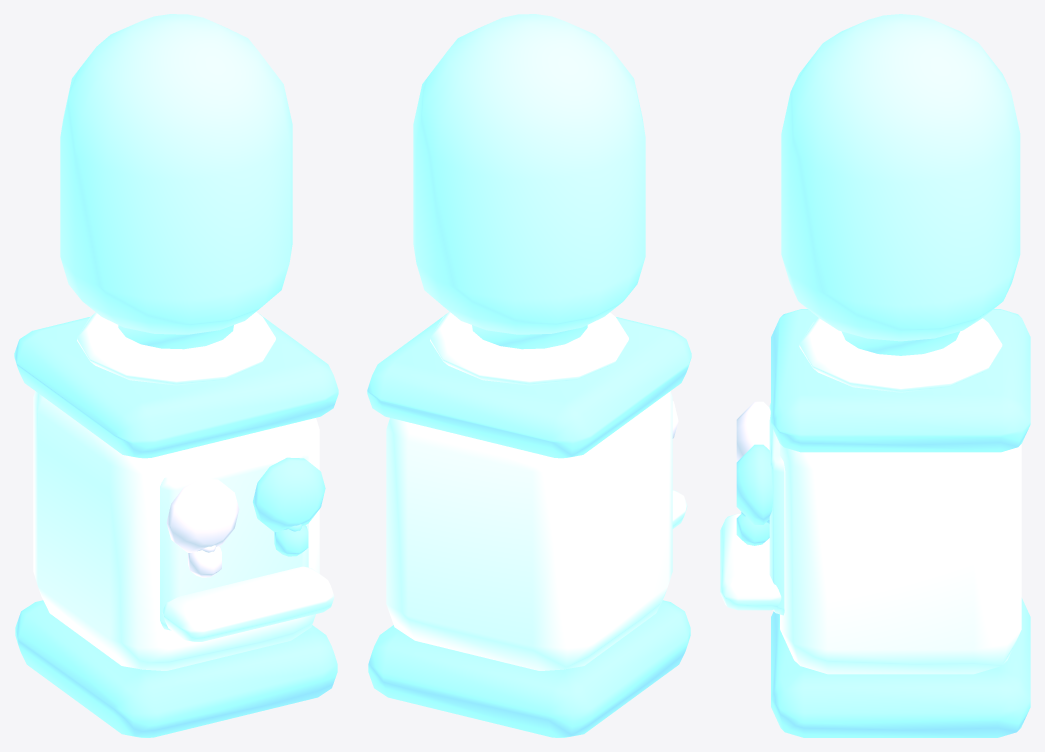
Rendered from props__WaterCooler.glb.
3 views of the same model, side by side, from view 1: azimuth 30°, elevation 25°; view 2: azimuth 150°, elevation 25°; view 3: azimuth 270°, elevation 25° (orthographic).
Parts seen in each view (by area): view 1: WaterCooler; view 2: WaterCooler; view 3: WaterCooler.
Boxes of the visible parts, x1,y1,x2,y2 form: WaterCooler: (14,14,338,737); WaterCooler: (367,14,691,737); WaterCooler: (720,14,1030,737).
Size of the model in its own units: 1.74 by 4.96 by 2.08.
